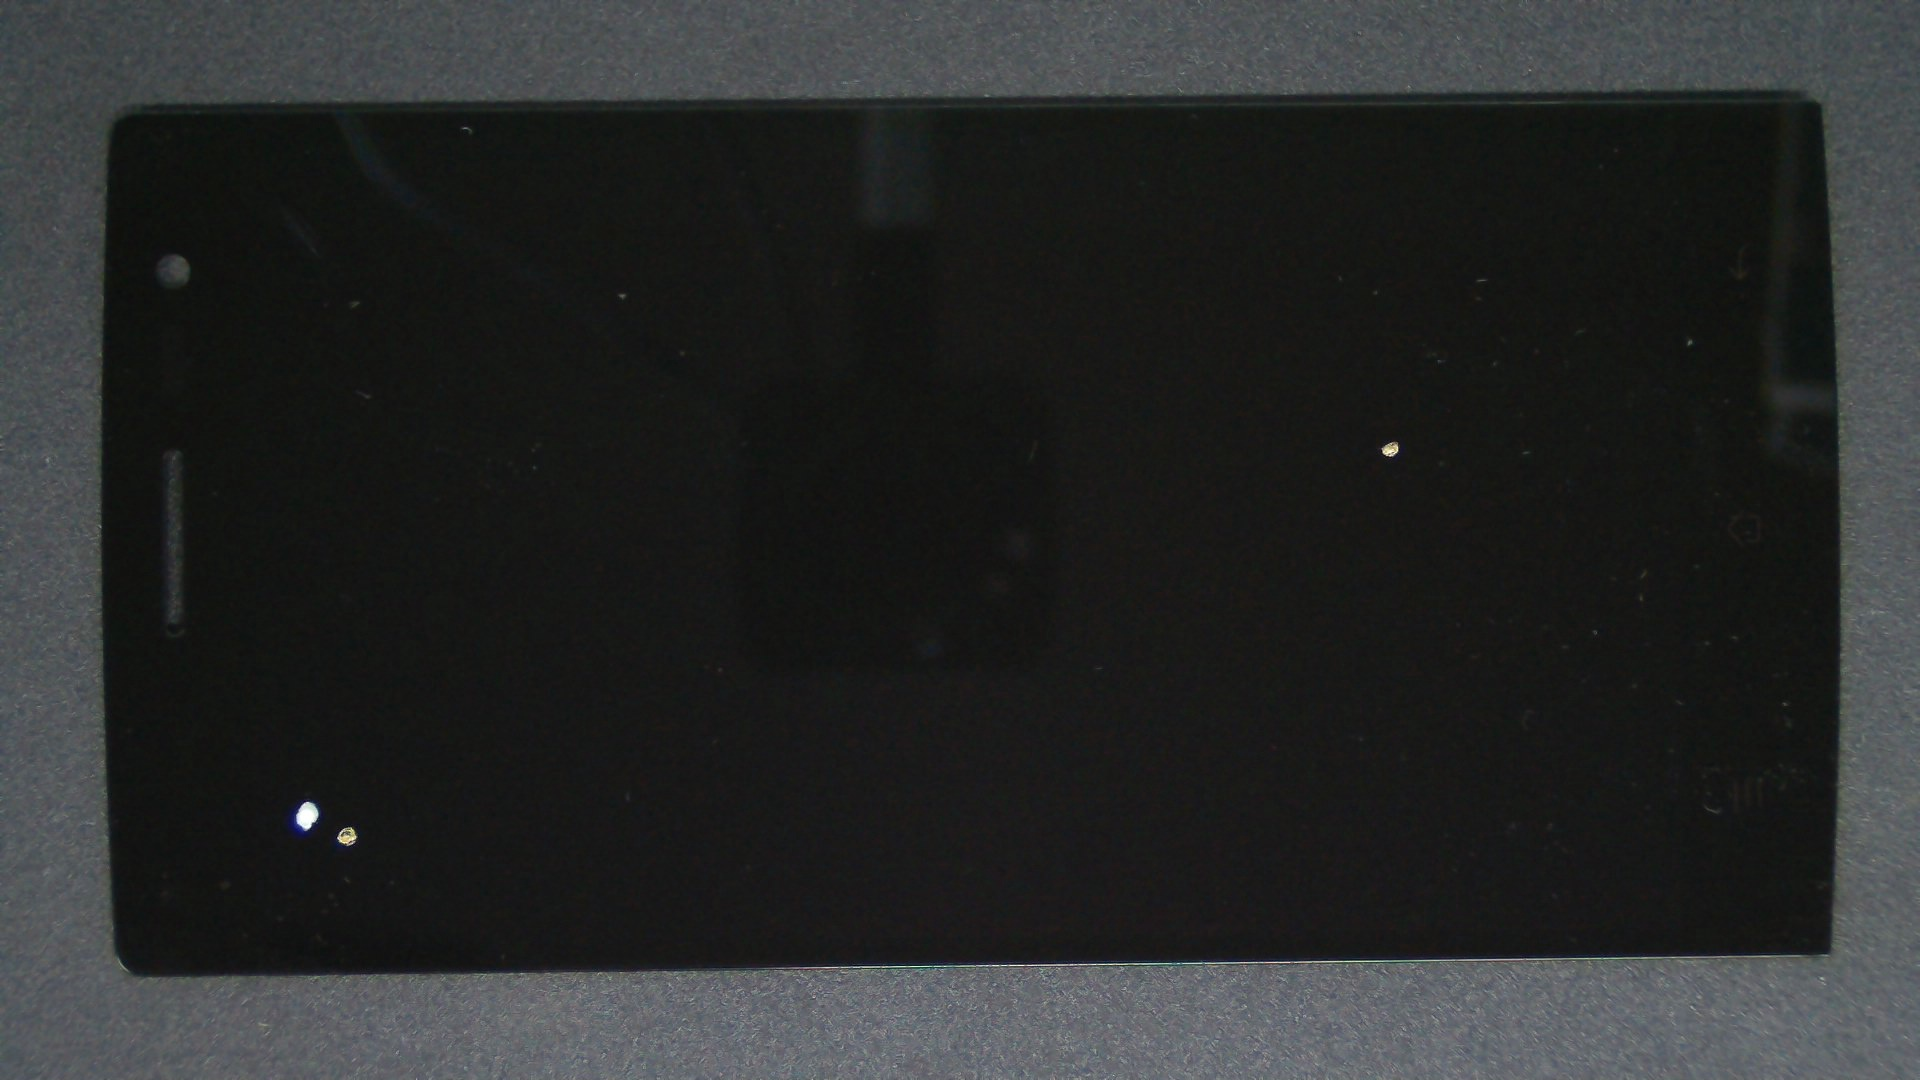oil: (696, 219, 1920, 661), (175, 411, 524, 1080), (154, 400, 462, 1080)
